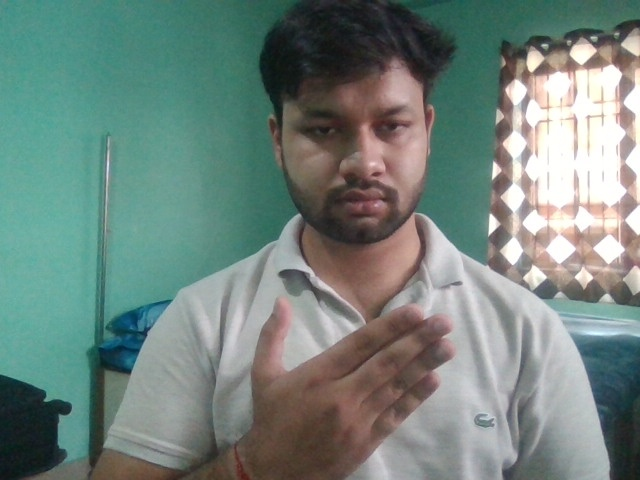Please: (241, 294, 460, 480)
